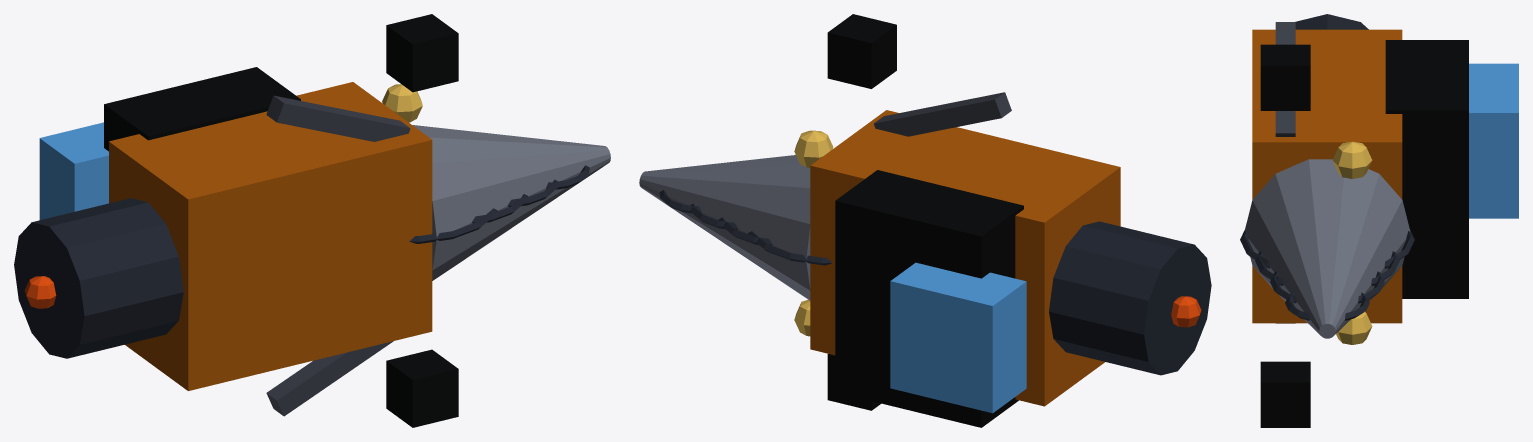
The model's file is miner.glb.
3 views of the same model, side by side, from view 1: azimuth 30°, elevation 25°; view 2: azimuth 150°, elevation 25°; view 3: azimuth 270°, elevation 25° (orthographic). The views are drawn at different scales.
Visible parts, largest first — view 1: miner; view 2: miner; view 3: miner.
Boxes of the visible parts, left/top/right/bottom form: miner: left=14, top=14, right=610, bottom=427; miner: left=639, top=14, right=1211, bottom=427; miner: left=1240, top=14, right=1518, bottom=427.
Size of the model in its own units: 1.54 by 0.971 by 0.6777.
